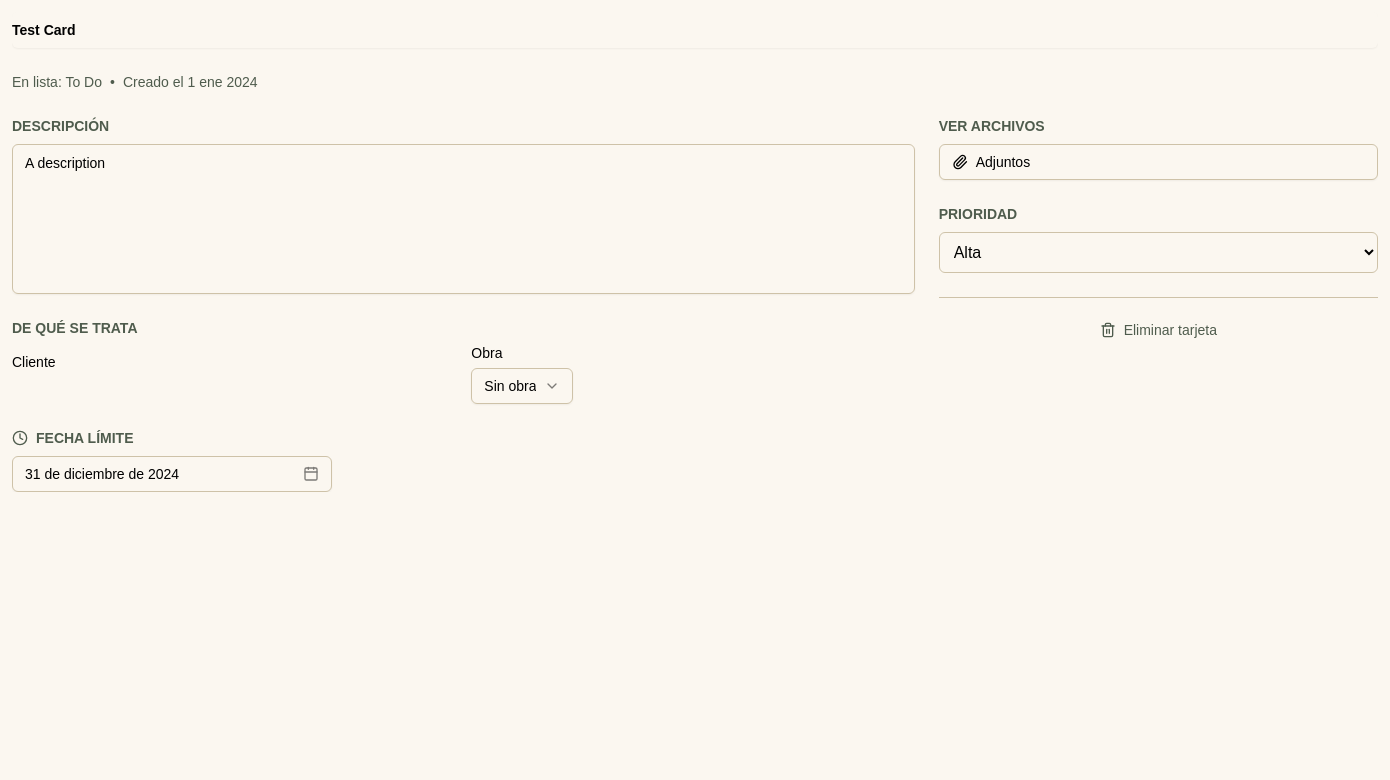
Test: CardForm › shows save button when priority changes
This screenshot has width=1390, height=780.
Select "Baja" in the dropdown showing "Alta": (1158, 252) x1=939 y1=232 x2=1378 y2=273
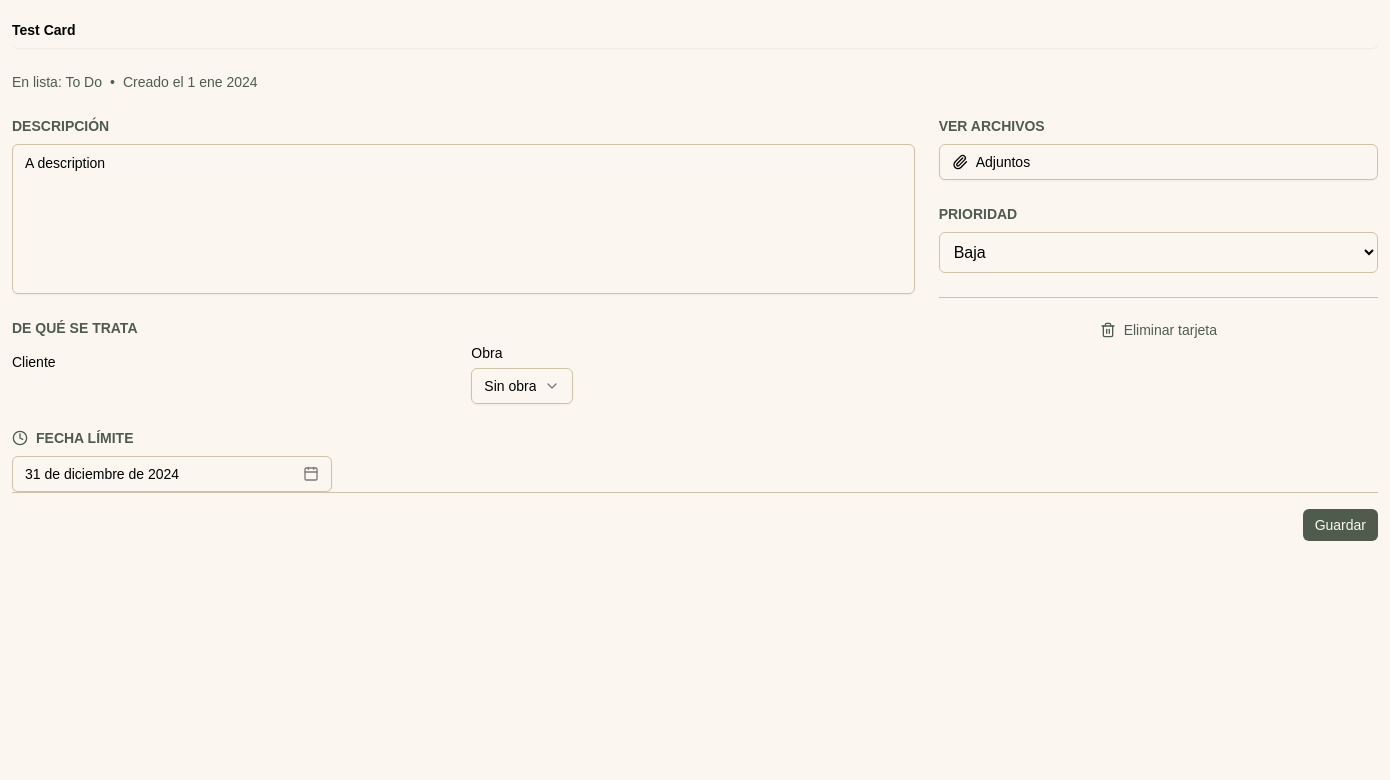
Result: the button "Guardar" is shown at x1=1303 y1=509 x2=1378 y2=541
